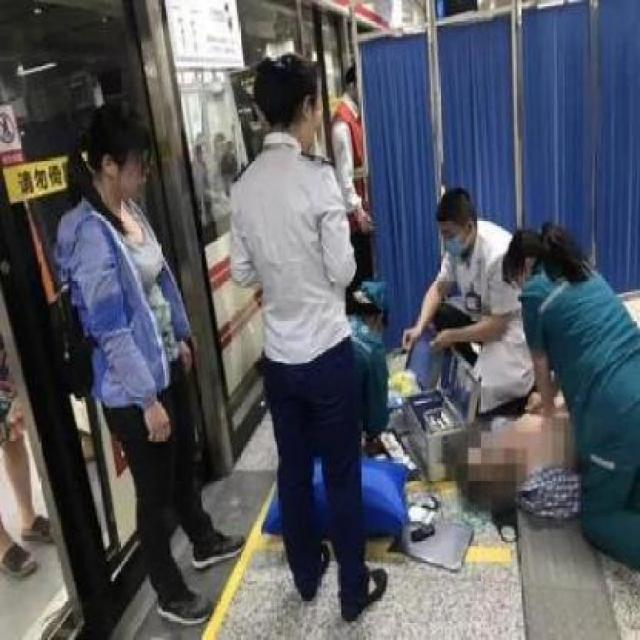fall: (433, 365, 616, 552)
